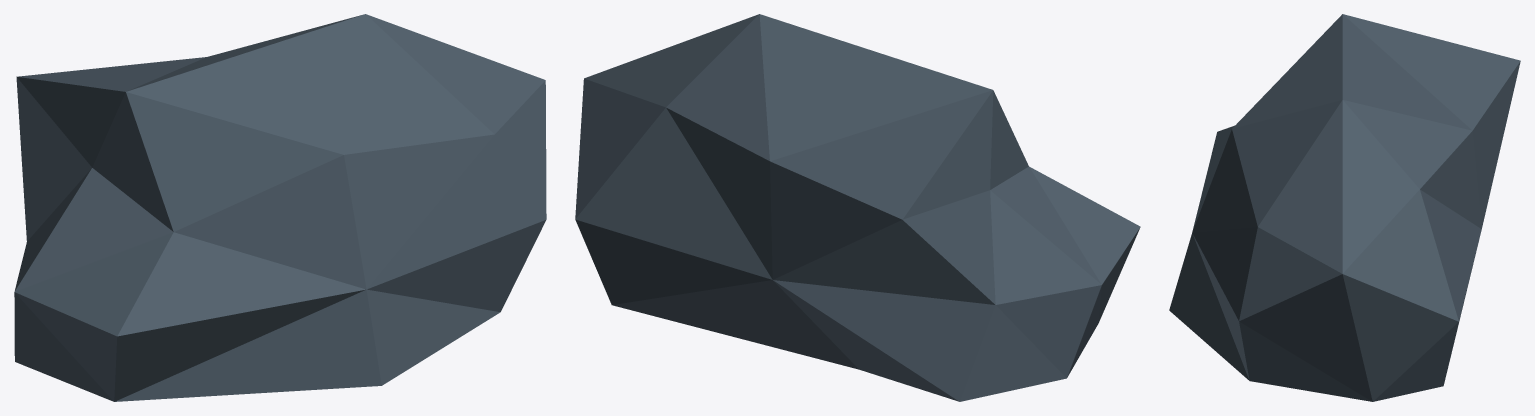
The model's file is Rock1.fbx.
The picture shows the model from 3 angles, left to right: view 1: azimuth 30°, elevation 25°; view 2: azimuth 150°, elevation 25°; view 3: azimuth 270°, elevation 25°; orthographic projection. The views are drawn at different scales.
Visible parts, largest first — view 1: EUUUUUUGH; view 2: EUUUUUUGH; view 3: EUUUUUUGH.
Part boxes in pixels (x1,y1,x2,y2): EUUUUUUGH: [14, 14, 546, 401]; EUUUUUUGH: [575, 14, 1140, 401]; EUUUUUUGH: [1169, 14, 1520, 401].
Bounding box in the file's own units: 3.18 × 1.6 × 2.07.
